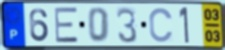0: (86, 6, 111, 44)
1: (178, 6, 191, 45)
3: (115, 6, 138, 45)
6: (28, 7, 51, 43)
C: (148, 6, 175, 44)
E: (53, 6, 81, 44)
